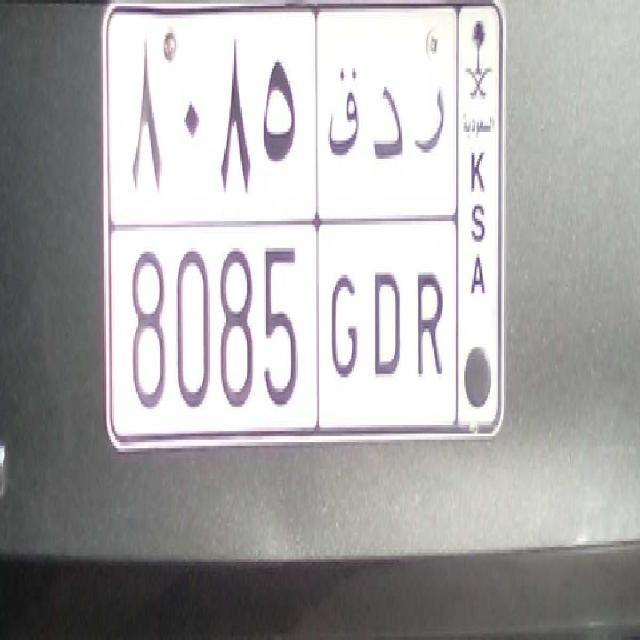license_plate: (121, 232, 450, 415)
